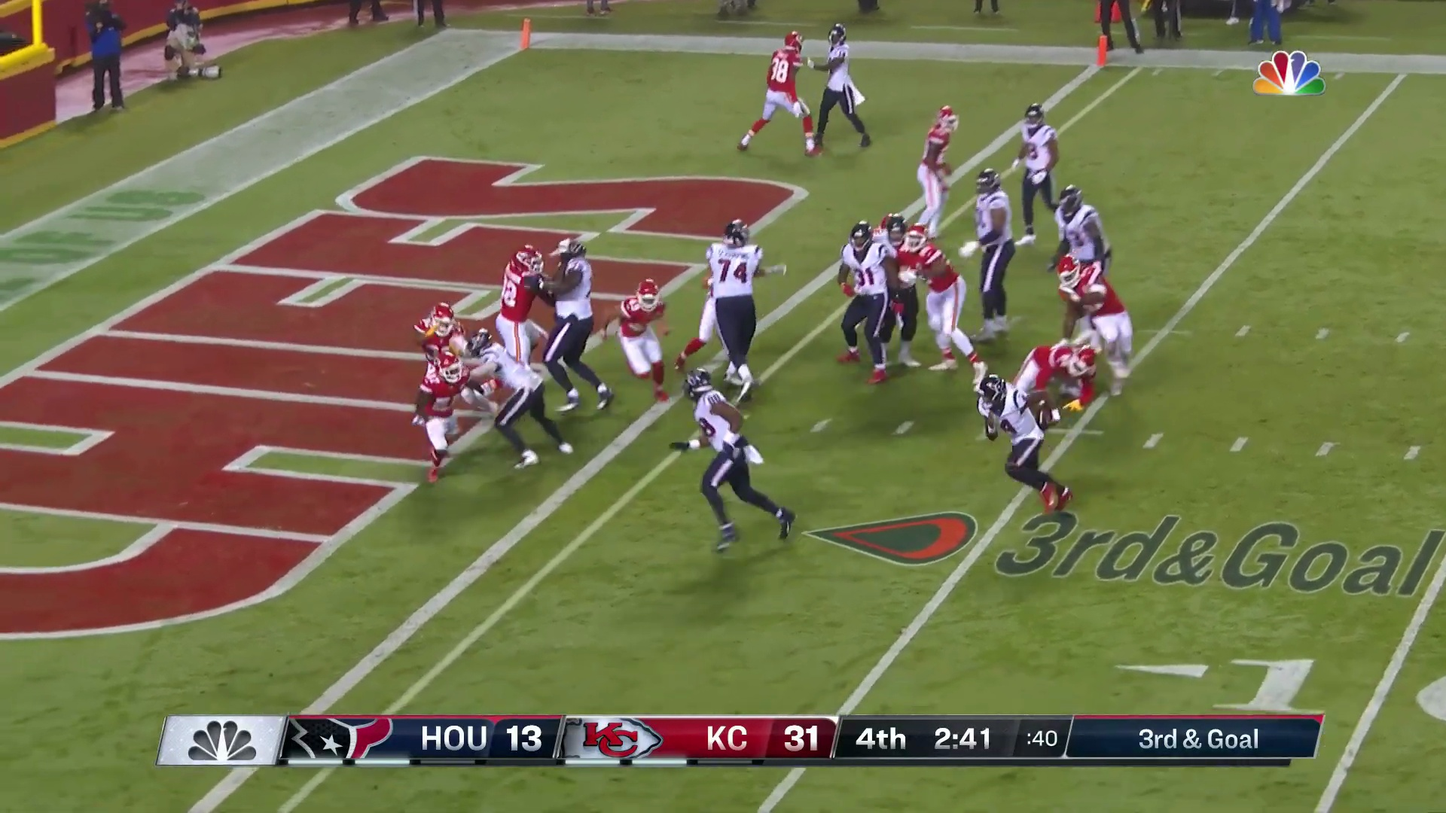Player: (1059, 245, 1132, 390), (707, 219, 760, 390), (1055, 185, 1112, 333), (544, 235, 593, 406), (839, 221, 891, 377), (415, 332, 469, 479), (975, 171, 1014, 336), (619, 279, 667, 401), (496, 247, 542, 364), (887, 224, 924, 368), (917, 106, 957, 237), (1020, 103, 1058, 239), (416, 303, 466, 406), (1044, 339, 1097, 409)
